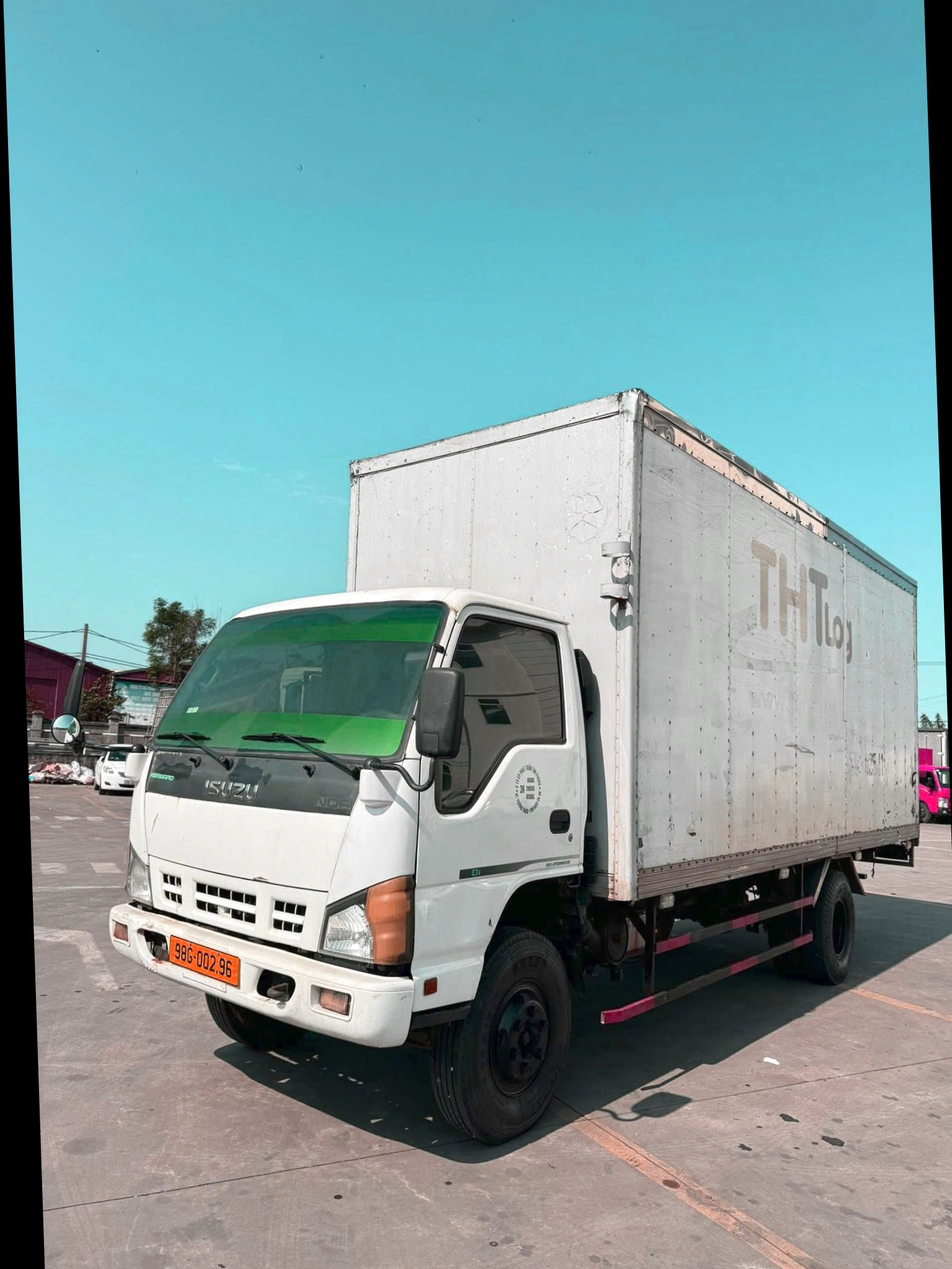Bien-so: (135, 903, 218, 961)
